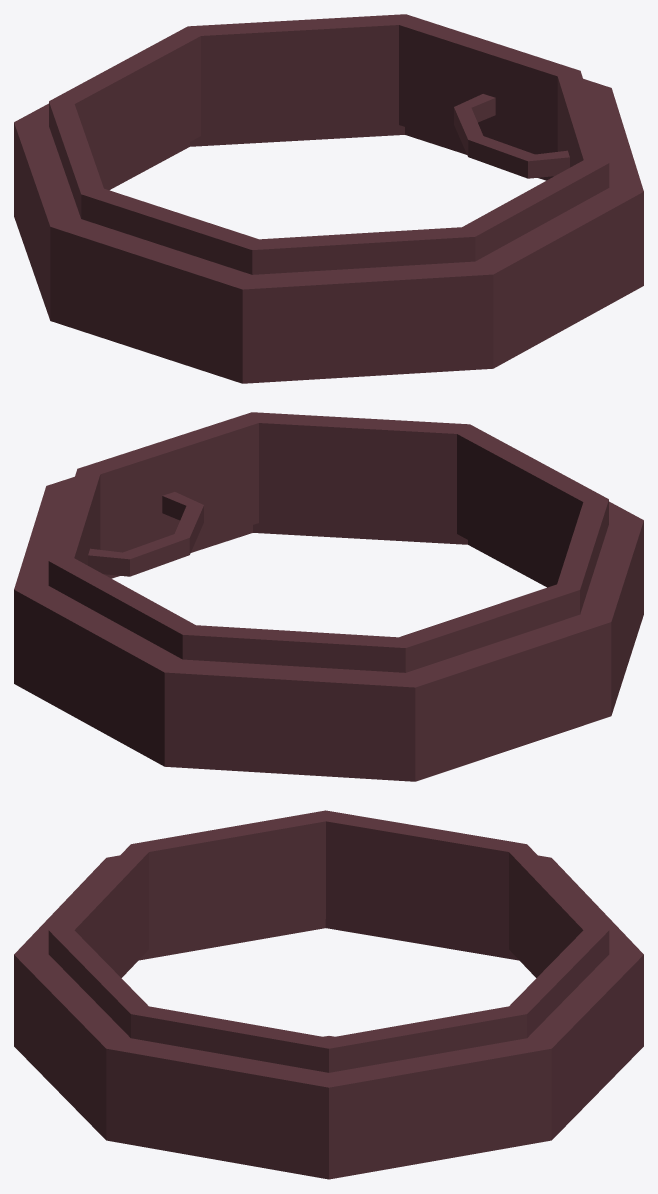
Rendered from concrete-ring-small.fbx.
3 renders of one model, top to bottom at view 1: azimuth 30°, elevation 25°; view 2: azimuth 150°, elevation 25°; view 3: azimuth 270°, elevation 25°, orthographic. The views are drawn at different scales.
Visible parts, largest first — view 1: concrete-ring-small; view 2: concrete-ring-small; view 3: concrete-ring-small.
Part boxes in pixels (box(x1,y1,x2,y2)): concrete-ring-small: box(14, 14, 643, 383); concrete-ring-small: box(14, 412, 643, 781); concrete-ring-small: box(14, 810, 643, 1179).
Bounding box in the file's own units: 1.24 × 0.25 × 1.23.
